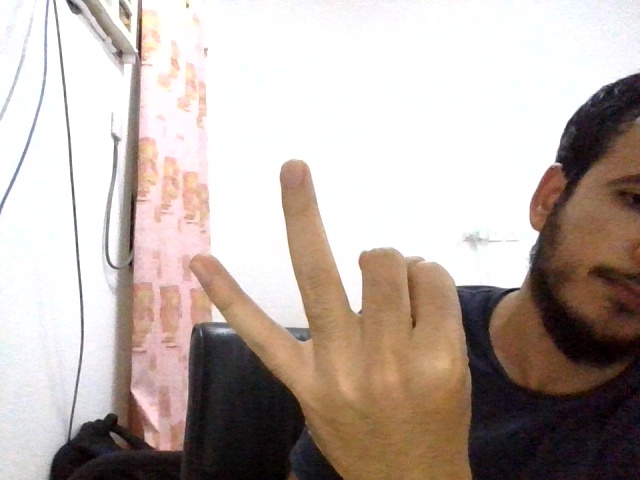Two: (188, 160, 473, 476)
